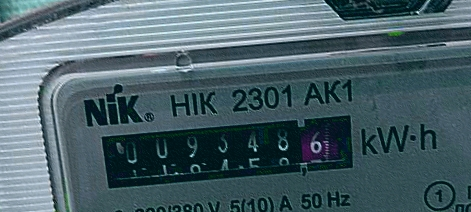0: (153, 135, 170, 159), (123, 138, 138, 165)
3: (214, 129, 230, 156)
4: (244, 126, 260, 154)
6: (306, 128, 325, 156)
8: (274, 125, 291, 154)
9: (183, 132, 200, 160)
screen: (91, 106, 365, 198)
